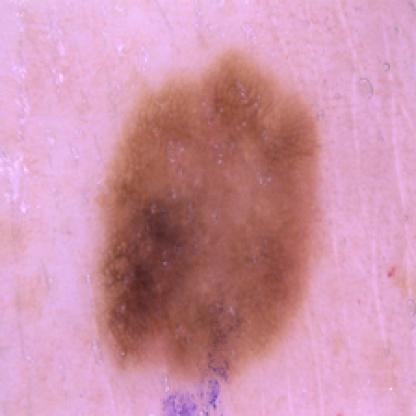benign: (91, 61, 331, 407)
